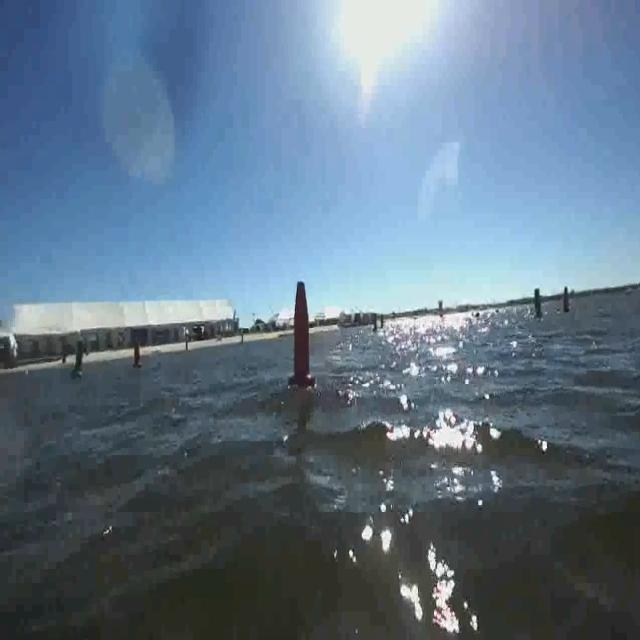green-column-buoy: (70, 338, 86, 378), (532, 287, 544, 318)
red-column-buoy: (290, 276, 316, 389), (133, 341, 144, 369), (561, 285, 572, 313)
